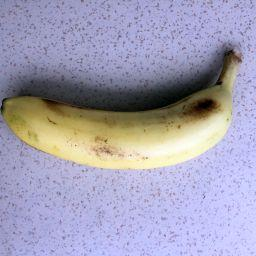Banana Ripe: (6, 50, 251, 191)
